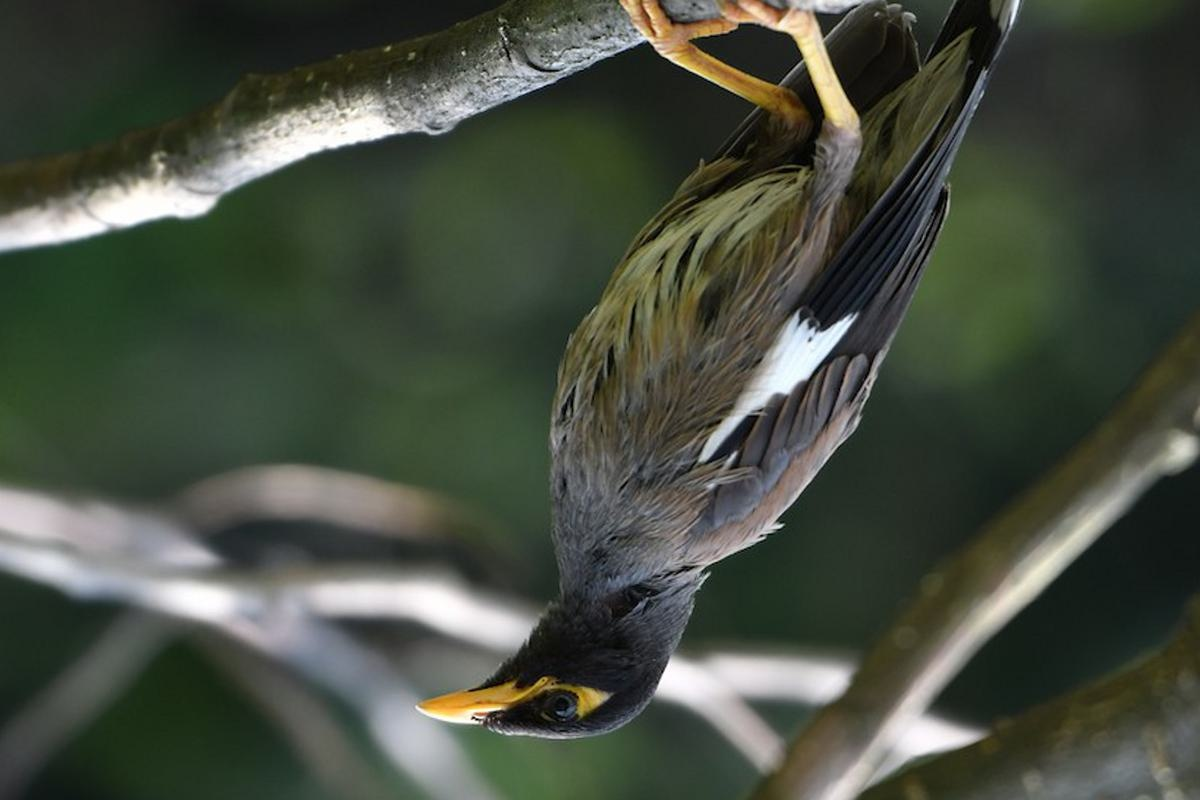myna: (411, 31, 957, 765)
